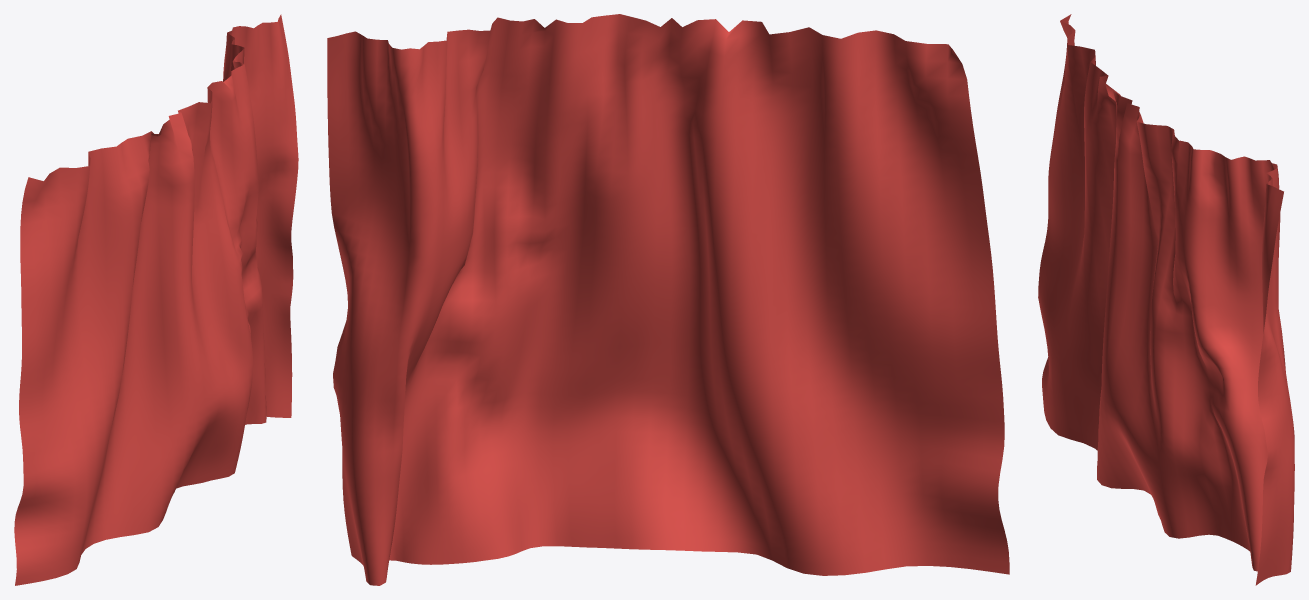
File: ClosedCurtain_Right.fbx
3 renders of one model, left to right at view 1: azimuth 30°, elevation 25°; view 2: azimuth 150°, elevation 25°; view 3: azimuth 270°, elevation 25°, orthographic. The views are drawn at different scales.
Visible parts, largest first — view 1: DM_RightCurtain; view 2: DM_RightCurtain; view 3: DM_RightCurtain.
Boxes of the visible parts, left/top/right/bottom form: DM_RightCurtain: left=14, top=14, right=298, bottom=585; DM_RightCurtain: left=327, top=14, right=1009, bottom=585; DM_RightCurtain: left=1038, top=14, right=1294, bottom=585.
Size of the model in its own units: 1502 by 1458 by 843.
